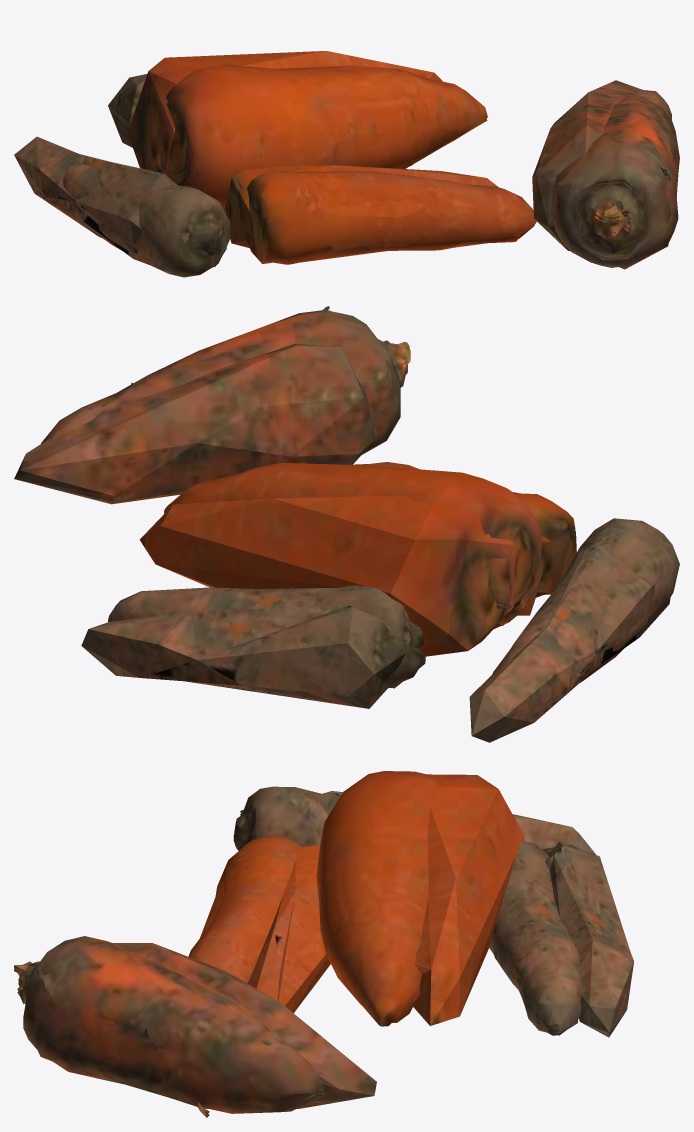
Rendered from imp-carrots.glb.
3 renders of one model, top to bottom at view 1: azimuth 30°, elevation 25°; view 2: azimuth 150°, elevation 25°; view 3: azimuth 270°, elevation 25°, orthographic. The views are drawn at different scales.
Visible parts, largest first — view 1: ZBrush_defualt_group_4_defaultMat_0 (×3); view 2: ZBrush_defualt_group_4_defaultMat_0 (×3); view 3: ZBrush_defualt_group_4_defaultMat_0 (×3).
Boxes of the visible parts, <box> form: ZBrush_defualt_group_4_defaultMat_0 (×3): <box>14,51,679,277</box>; ZBrush_defualt_group_4_defaultMat_0 (×3): <box>14,306,679,742</box>; ZBrush_defualt_group_4_defaultMat_0 (×3): <box>14,771,633,1117</box>.
Bounding box in the file's own units: 0.25 × 0.066 × 0.25.
Materials: 1 (1 with a texture image).
